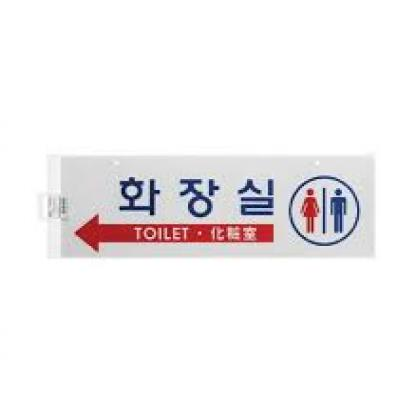toilet: (285, 176, 364, 247)
